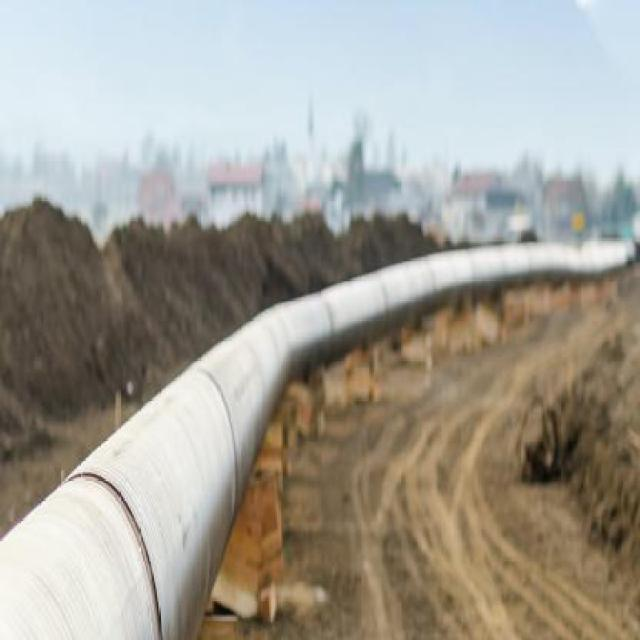gas: (1, 240, 629, 640)
